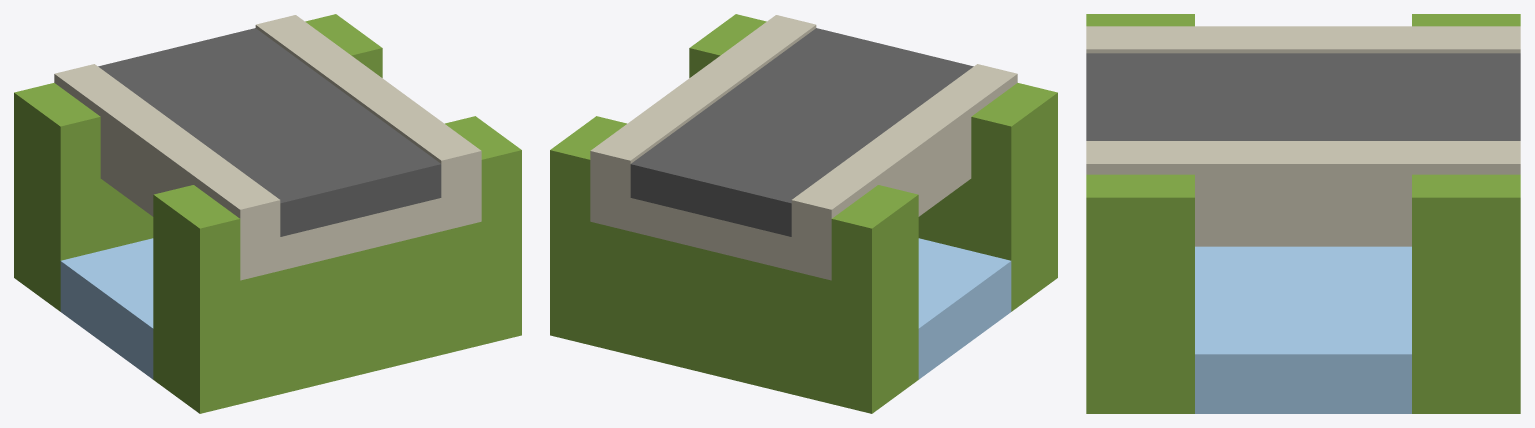
The model's file is roadTile_197.obj.
3 renders of one model, left to right at view 1: azimuth 30°, elevation 25°; view 2: azimuth 150°, elevation 25°; view 3: azimuth 270°, elevation 25°, orthographic. The views are drawn at different scales.
Visible parts, largest first — view 1: Mesh1_Group1_Model.046; view 2: Mesh1_Group1_Model.046; view 3: Mesh1_Group1_Model.046.
Part boxes in pixels (x1,y1,x2,y2): Mesh1_Group1_Model.046: (14,14,521,413); Mesh1_Group1_Model.046: (550,14,1057,413); Mesh1_Group1_Model.046: (1086,14,1520,413).
Bounding box in the file's own units: 3 × 1.73 × 3.
